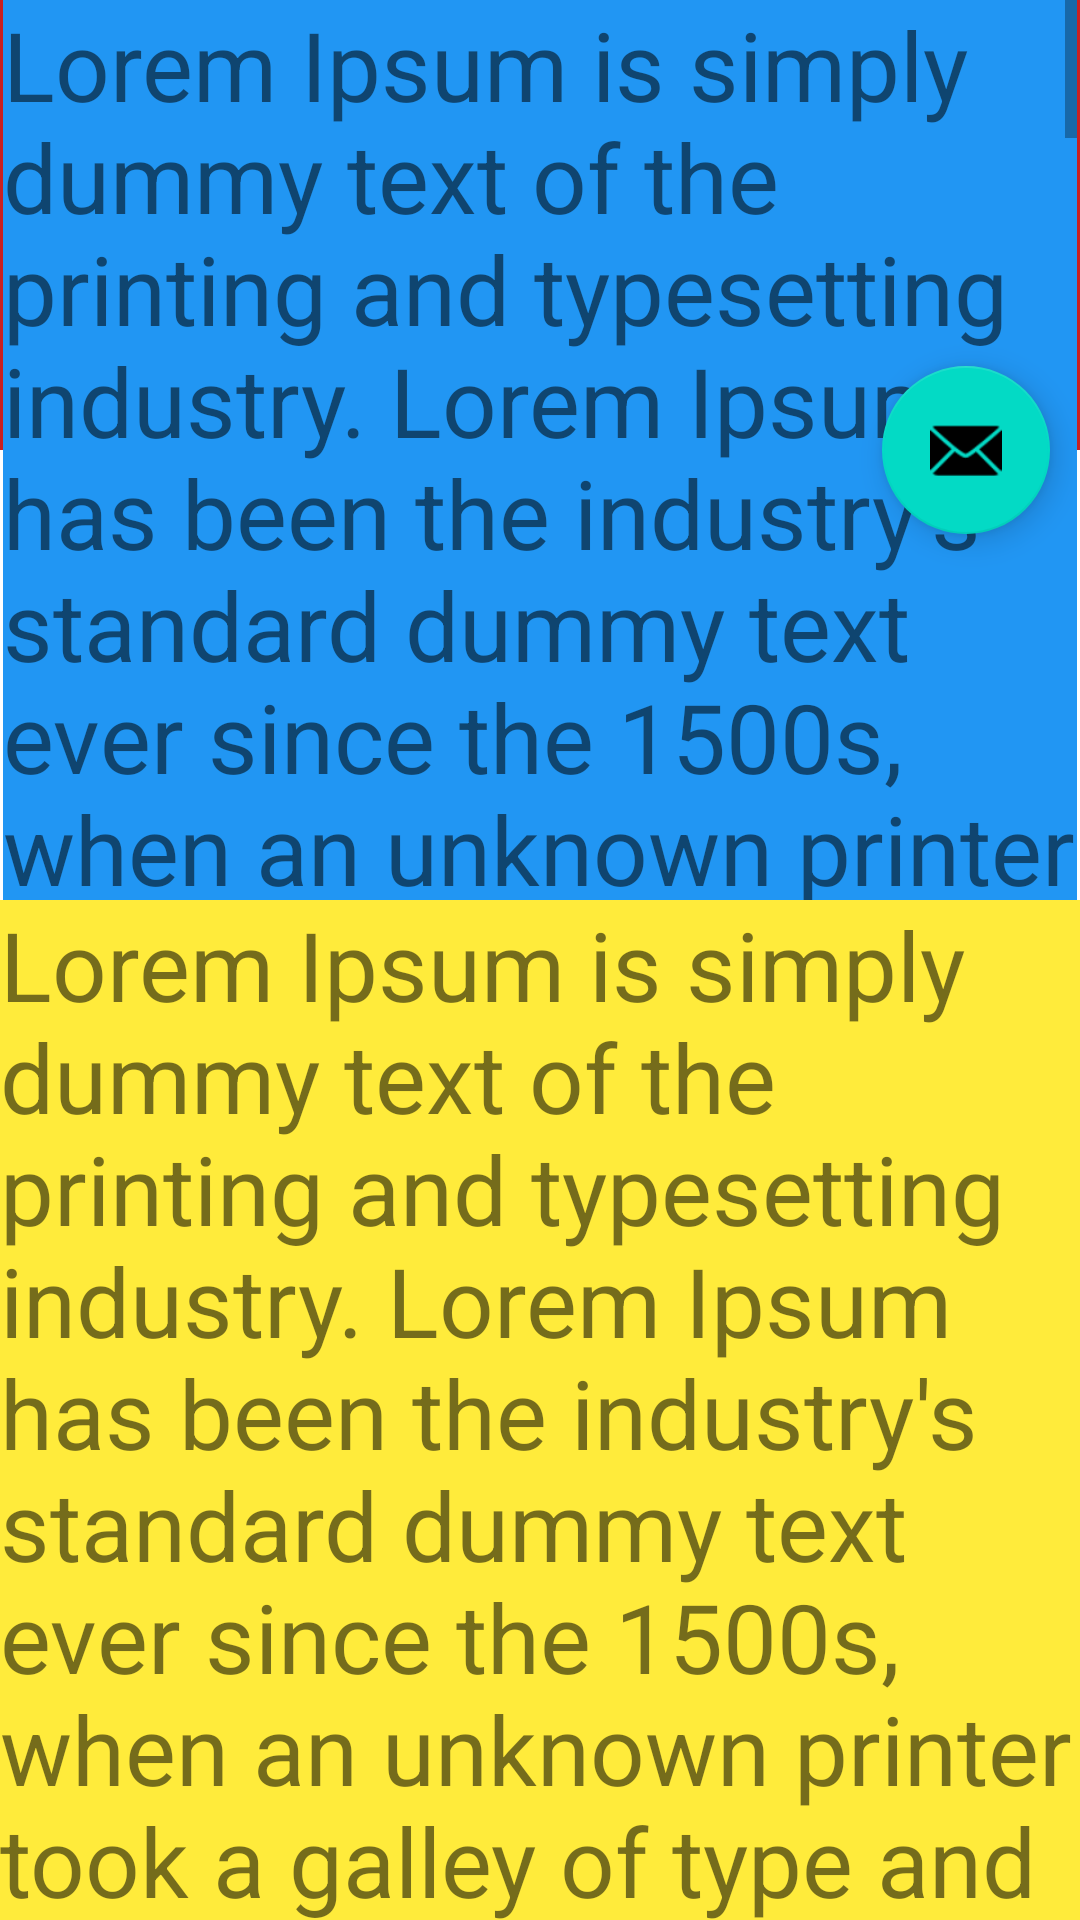

Screen size 1080x1920. Icon name, then its center in pixels as (x=x, y=y):
email: (x=966, y=450)
